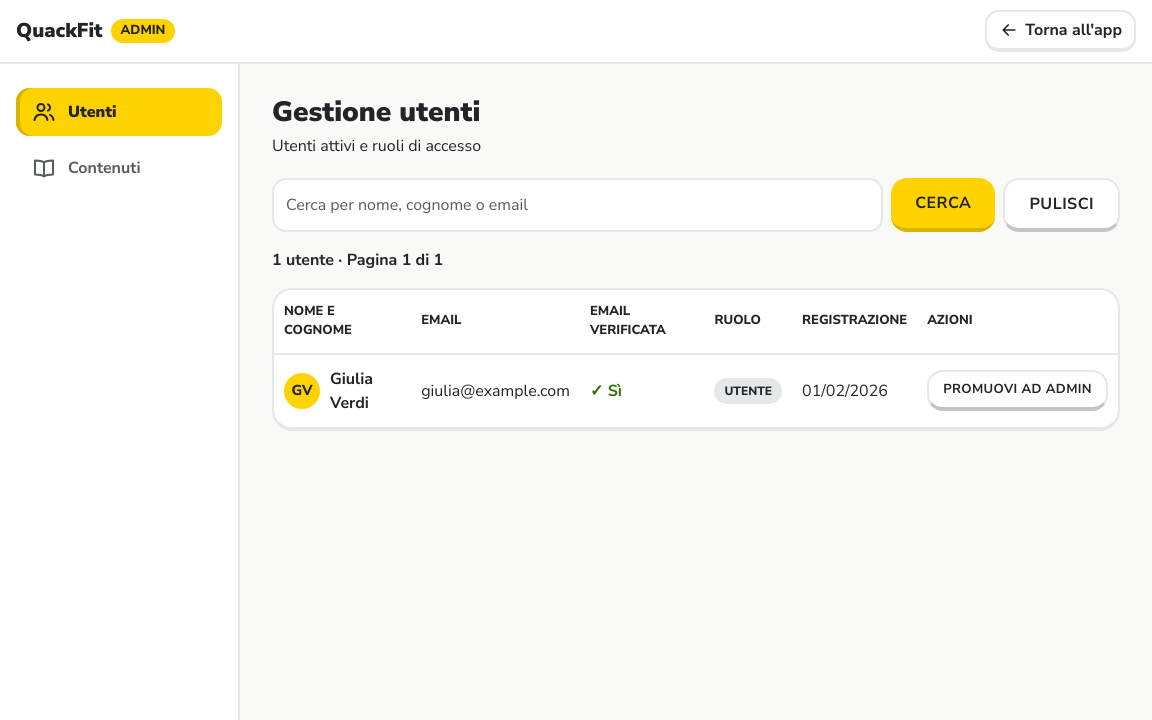
Test: gestione utenti › Annulla chiude la conferma senza chiamare il backend
Click the button "Promuovi ad ADMIN".
click(1018, 391)  # box x1=927 y1=370 x2=1108 y2=411
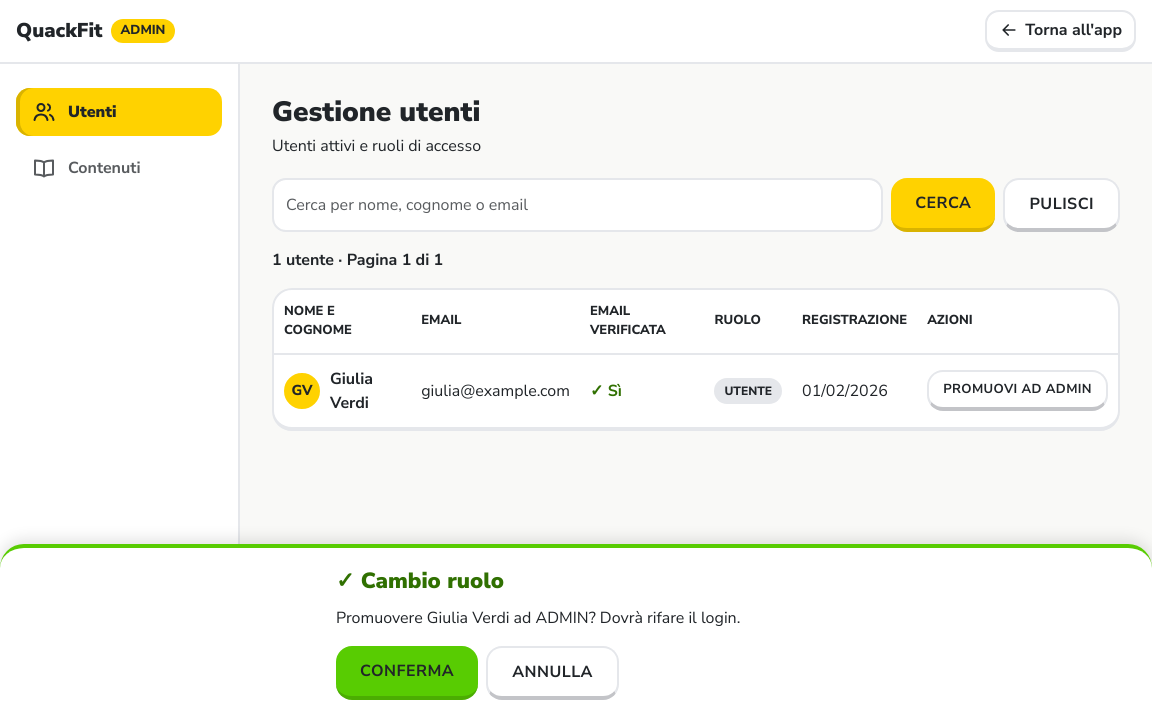
Now the text "Promuovere Giulia Verdi ad ADMIN? Dovrà rifare il login." is shown, box x1=336 y1=607 x2=740 y2=629
Click the button "Annulla".
click(553, 673)  # box x1=486 y1=646 x2=619 y2=700
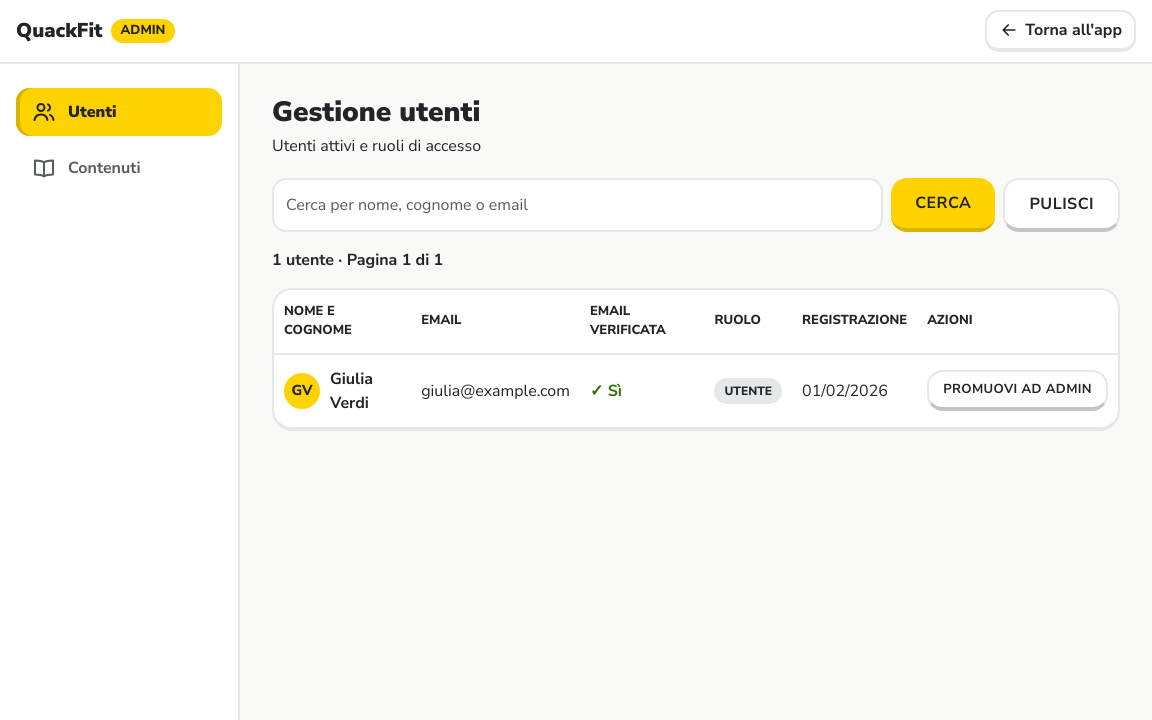
Now the dialog is gone
